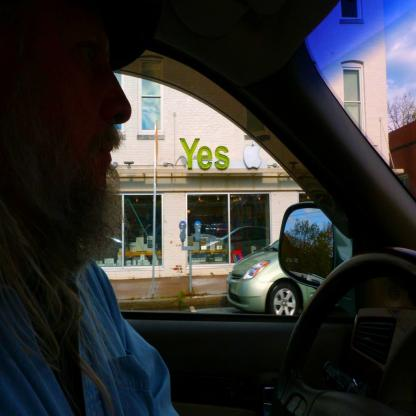Car: (2, 1, 416, 415), (226, 235, 319, 316)
